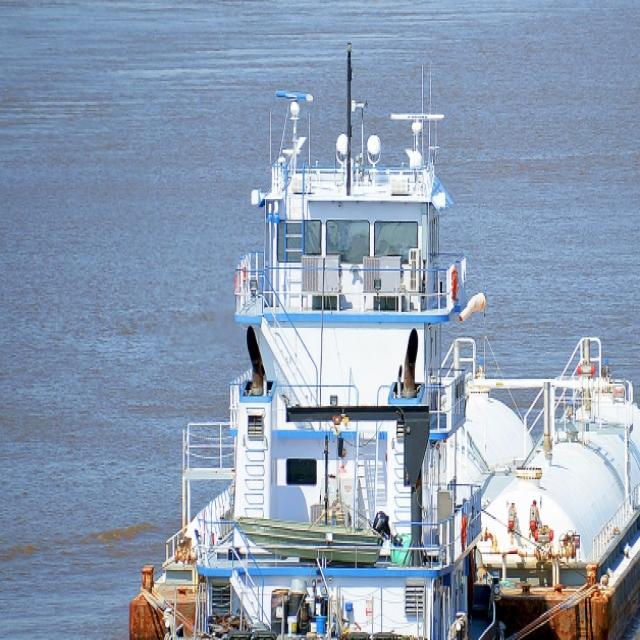tugboat: (127, 82, 516, 640)
